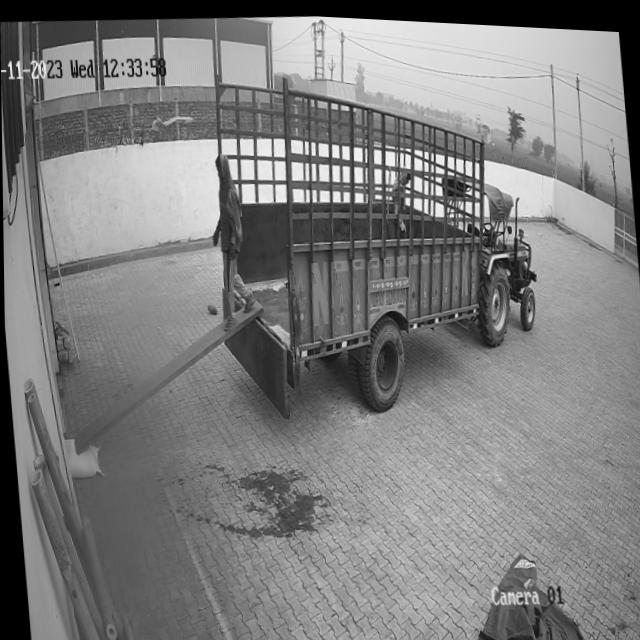sack: (61, 435, 100, 479)
